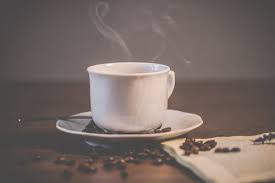cup: (54, 58, 205, 147)
